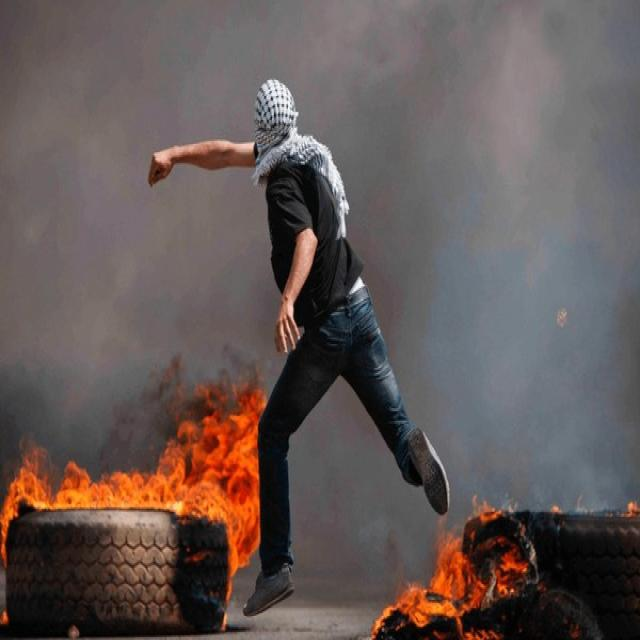fire: (0, 386, 268, 597), (369, 529, 528, 640)
